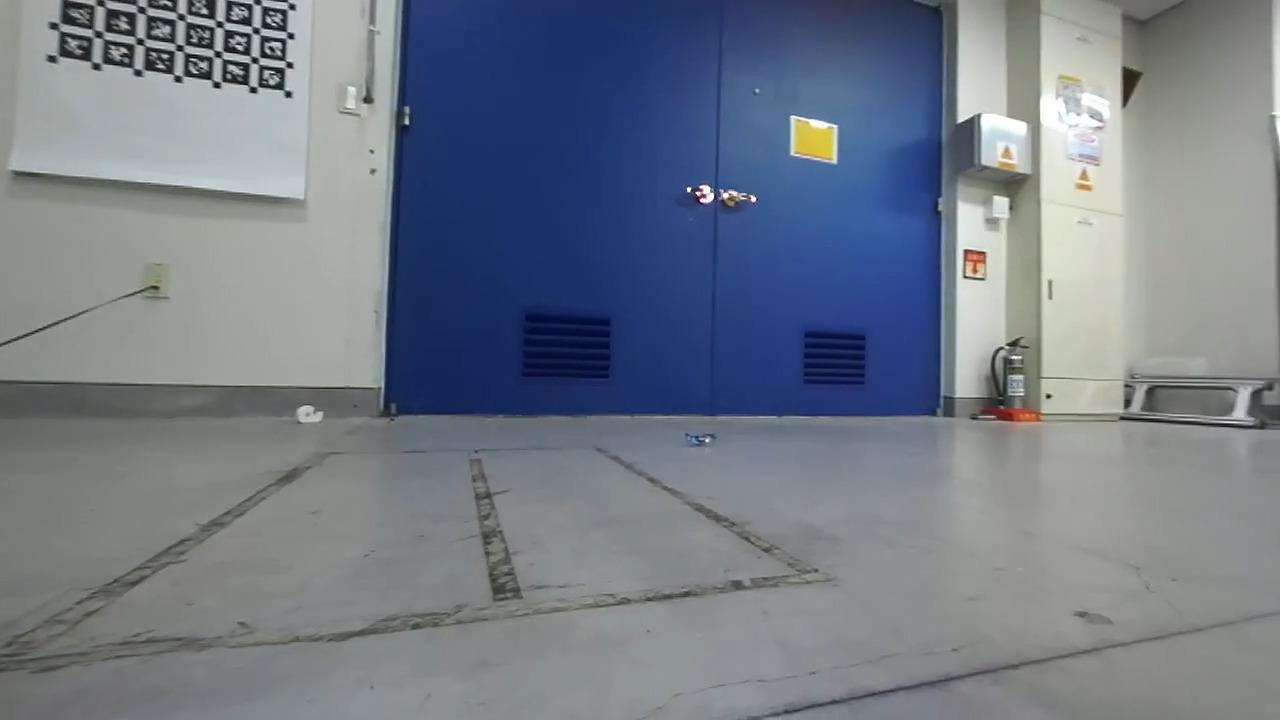crazyflie: (675, 426, 724, 452)
